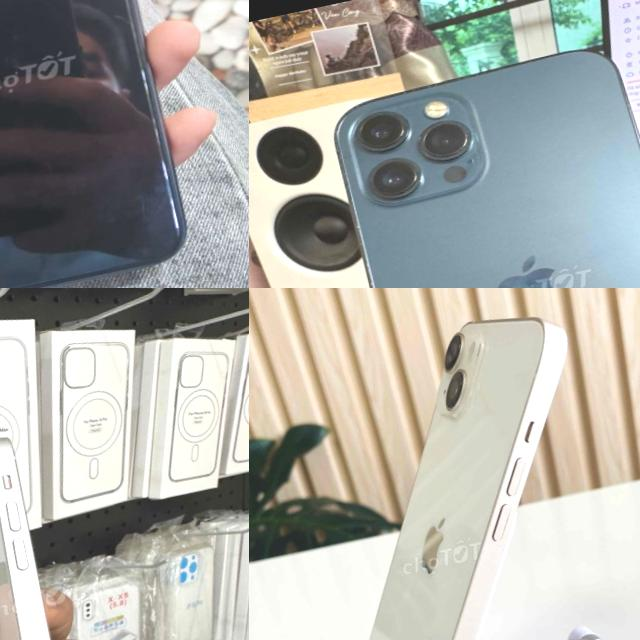gen_11: (0, 0, 203, 288)
gen_12_13: (325, 27, 640, 288), (0, 427, 112, 640)
gen_14: (275, 300, 640, 640)
